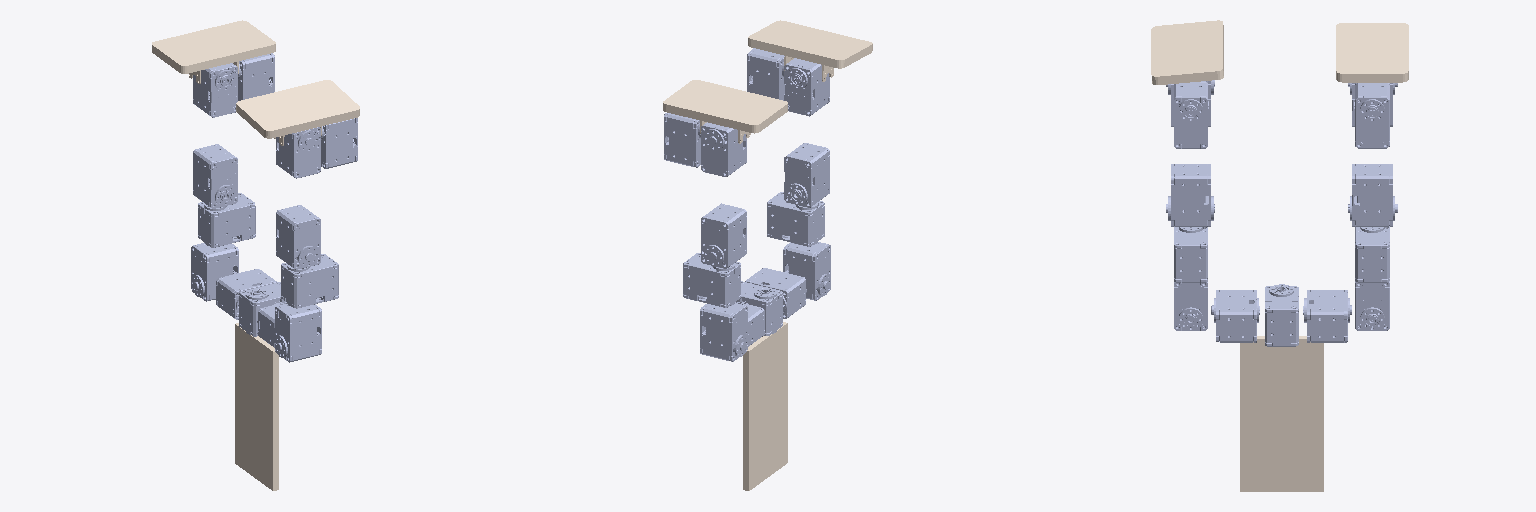
URDF robot description (3):
<?xml version='1.0' encoding='utf-8'?>
<robot name="3">
  <link name="base_link">
    <inertial>
      <origin xyz="0.011672590012564 0.0754963486989652 -0.209170861702287" rpy="0 0 0" />
      <mass value="0.131635938904622" />
      <inertia ixx="1.91553932101858E-05" ixy="4.40820055071525E-09" ixz="-2.55503272044349E-07" iyy="3.09392742802438E-05" iyz="-5.2330608648758E-09" izz="3.19799191111257E-05" />
      </inertial>
    <visual>
      <origin xyz="0 0 0" rpy="0 0 0" />
      <geometry>
        <mesh filename="meshes/base_link.STL" />
        </geometry>
      <material name="">
        <color rgba="0.792156862745098 0.819607843137255 0.933333333333333 1" />
        </material>
      </visual>
    <collision>
      <origin xyz="0 0 0" rpy="0 0 0" />
      <geometry>
        <mesh filename="meshes/base_link.STL" />
        </geometry>
      </collision>
    </link>
  <link name="r_hip_pitch_link">
    <inertial>
      <origin xyz="0.000512585106856932 -0.0377390460968998 -0.0116725900125635" rpy="0 0 0" />
      <mass value="0.0438786463015405" />
      <inertia ixx="9.966209816454E-06" ixy="5.23306086487016E-09" ixz="-2.55503272044309E-07" iyy="1.10068546473359E-05" iyz="4.40820055073216E-09" izz="6.38513107006193E-06" />
      </inertial>
    <visual>
      <origin xyz="0 0 0" rpy="0 0 0" />
      <geometry>
        <mesh filename="meshes/r_hip_pitch_link.STL" />
        </geometry>
      <material name="">
        <color rgba="0.792156862745098 0.819607843137255 0.933333333333333 1" />
        </material>
      </visual>
    <collision>
      <origin xyz="0 0 0" rpy="0 0 0" />
      <geometry>
        <mesh filename="meshes/r_hip_pitch_link.STL" />
        </geometry>
      </collision>
    </link>
  <joint name="r_hip_pitch_joint" type="revolute">
    <origin xyz="0 0.03775 -0.209" rpy="-3.14159265358979 0 -3.14159265358979" />
    <parent link="base_link" />
    <child link="r_hip_pitch_link" />
    <axis xyz="0 1 0" />
    <limit lower="-3.142" upper="3.142" effort="0" velocity="0" />
    </joint>
  <link name="r_hip_roll_link">
    <inertial>
      <origin xyz="-0.0116725900125634 1.09539031014981E-05 -0.0592625851068567" rpy="0 0 0" />
      <mass value="0.0438786463015405" />
      <inertia ixx="6.38513107006192E-06" ixy="4.40820055073266E-09" ixz="2.55503272044307E-07" iyy="1.10068546473358E-05" iyz="-5.23306086487158E-09" izz="9.96620981645398E-06" />
      </inertial>
    <visual>
      <origin xyz="0 0 0" rpy="0 0 0" />
      <geometry>
        <mesh filename="meshes/r_hip_roll_link.STL" />
        </geometry>
      <material name="">
        <color rgba="0.792156862745098 0.819607843137255 0.933333333333333 1" />
        </material>
      </visual>
    <collision>
      <origin xyz="0 0 0" rpy="0 0 0" />
      <geometry>
        <mesh filename="meshes/r_hip_roll_link.STL" />
        </geometry>
      </collision>
    </link>
  <joint name="r_hip_roll_joint" type="revolute">
    <origin xyz="0 -0.03775 0" rpy="0 0 0" />
    <parent link="r_hip_pitch_link" />
    <child link="r_hip_roll_link" />
    <axis xyz="-1 0 0" />
    <limit lower="-3.142" upper="3.142" effort="0" velocity="0" />
    </joint>
  <link name="r_hip_thigh_link">
    <inertial>
      <origin xyz="1.0953903100219E-05 -0.000512585106857445 -0.0464225900125635" rpy="0 0 0" />
      <mass value="0.0438786463015405" />
      <inertia ixx="1.10068546473359E-05" ixy="-5.23306086487113E-09" ixz="4.40820055073159E-09" iyy="9.96620981645401E-06" iyz="2.55503272044309E-07" izz="6.38513107006194E-06" />
      </inertial>
    <visual>
      <origin xyz="0 0 0" rpy="0 0 0" />
      <geometry>
        <mesh filename="meshes/r_hip_thigh_link.STL" />
        </geometry>
      <material name="">
        <color rgba="0.792156862745098 0.819607843137255 0.933333333333333 1" />
        </material>
      </visual>
    <collision>
      <origin xyz="0 0 0" rpy="0 0 0" />
      <geometry>
        <mesh filename="meshes/r_hip_thigh_link.STL" />
        </geometry>
      </collision>
    </link>
  <joint name="r_hip_thigh_joint" type="revolute">
    <origin xyz="0 0 -0.0587499999999997" rpy="0 0 0" />
    <parent link="r_hip_roll_link" />
    <child link="r_hip_thigh_link" />
    <axis xyz="0 0 1" />
    <limit lower="-3.142" upper="3.142" effort="0" velocity="0" />
    </joint>
  <link name="r_hip_calf_link">
    <inertial>
      <origin xyz="-1.09539031002066E-05 -0.000512585106856929 -0.103827409987437" rpy="0 0 0" />
      <mass value="0.0438786463015405" />
      <inertia ixx="1.10068546473359E-05" ixy="5.23306086487085E-09" ixz="4.40820055073296E-09" iyy="9.96620981645399E-06" iyz="-2.55503272044308E-07" izz="6.38513107006194E-06" />
      </inertial>
    <visual>
      <origin xyz="0 0 0" rpy="0 0 0" />
      <geometry>
        <mesh filename="meshes/r_hip_calf_link.STL" />
        </geometry>
      <material name="">
        <color rgba="0.792156862745098 0.819607843137255 0.933333333333333 1" />
        </material>
      </visual>
    <collision>
      <origin xyz="0 0 0" rpy="0 0 0" />
      <geometry>
        <mesh filename="meshes/r_hip_calf_link.STL" />
        </geometry>
      </collision>
    </link>
  <joint name="r_hip_calf_joint" type="revolute">
    <origin xyz="0 0 -0.03475" rpy="0 0 0" />
    <parent link="r_hip_thigh_link" />
    <child link="r_hip_calf_link" />
    <axis xyz="0 1 0" />
    <limit lower="-3.142" upper="3.142" effort="0" velocity="0" />
    </joint>
  <link name="r_ankle_pitch_link">
    <inertial>
      <origin xyz="-0.037237414893143 -1.09539031002194E-05 0.0116725900125634" rpy="0 0 0" />
      <mass value="0.0438786463015405" />
      <inertia ixx="9.96620981645399E-06" ixy="-5.23306086487117E-09" ixz="2.55503272044308E-07" iyy="1.10068546473359E-05" iyz="4.40820055073282E-09" izz="6.38513107006194E-06" />
      </inertial>
    <visual>
      <origin xyz="0 0 0" rpy="0 0 0" />
      <geometry>
        <mesh filename="meshes/r_ankle_pitch_link.STL" />
        </geometry>
      <material name="">
        <color rgba="0.792156862745098 0.819607843137255 0.933333333333333 1" />
        </material>
      </visual>
    <collision>
      <origin xyz="0 0 0" rpy="0 0 0" />
      <geometry>
        <mesh filename="meshes/r_ankle_pitch_link.STL" />
        </geometry>
      </collision>
    </link>
  <joint name="r_ankle _pitch_joint" type="revolute">
    <origin xyz="0 0 -0.1155" rpy="0 0 0" />
    <parent link="r_hip_calf_link" />
    <child link="r_ankle_pitch_link" />
    <axis xyz="0 1 0" />
    <limit lower="-3.142" upper="3.142" effort="0" velocity="0" />
    </joint>
  <link name="r_ankle_roll_link">
    <inertial>
      <origin xyz="0.0395 -0.00262871663161335 -0.0261768335109488" rpy="0 0 0" />
      <mass value="0.168105015619337" />
      <inertia ixx="5.68510292905988E-05" ixy="-1.55352785745136E-20" ixz="5.14376064415107E-21" iyy="0.000155703689867648" iyz="5.20711296536529E-06" izz="0.000207033359916456" />
      </inertial>
    <visual>
      <origin xyz="0 0 0" rpy="0 0 0" />
      <geometry>
        <mesh filename="meshes/r_ankle_roll_link.STL" />
        </geometry>
      <material name="">
        <color rgba="1 0.949019607843137 0.898039215686275 1" />
        </material>
      </visual>
    <collision>
      <origin xyz="0 0 0" rpy="0 0 0" />
      <geometry>
        <mesh filename="meshes/r_ankle_roll_link.STL" />
        </geometry>
      </collision>
    </link>
  <joint name="r_ankle_roll_joint" type="revolute">
    <origin xyz="-0.03775 0 0" rpy="0 0 0" />
    <parent link="r_ankle_pitch_link" />
    <child link="r_ankle_roll_link" />
    <axis xyz="-1 0 0" />
    <limit lower="-3.142" upper="3.142" effort="0" velocity="0" />
    </joint>
  <link name="l_hip_pitch_link">
    <inertial>
      <origin xyz="0.000512585106856032 0.0377609539031015 -0.0116725900125656" rpy="0 0 0" />
      <mass value="0.0438786463015405" />
      <inertia ixx="9.966209816454E-06" ixy="5.2330608648565E-09" ixz="-2.55503272044321E-07" iyy="1.10068546473359E-05" iyz="4.40820055066507E-09" izz="6.38513107006194E-06" />
      </inertial>
    <visual>
      <origin xyz="0 0 0" rpy="0 0 0" />
      <geometry>
        <mesh filename="meshes/l_hip_pitch_link.STL" />
        </geometry>
      <material name="">
        <color rgba="0.792156862745098 0.819607843137255 0.933333333333333 1" />
        </material>
      </visual>
    <collision>
      <origin xyz="0 0 0" rpy="0 0 0" />
      <geometry>
        <mesh filename="meshes/l_hip_pitch_link.STL" />
        </geometry>
      </collision>
    </link>
  <joint name="l_hip_pitch_joint" type="revolute">
    <origin xyz="0 0.11325 -0.209000000000001" rpy="-3.14159265358979 0 -3.14159265358979" />
    <parent link="base_link" />
    <child link="l_hip_pitch_link" />
    <axis xyz="0 -1 0" />
    <limit lower="-3.142" upper="3.142" effort="0" velocity="0" />
    </joint>
  <link name="l_hip_roll_link">
    <inertial>
      <origin xyz="-0.0116725900125597 1.09539030993255E-05 -0.0592625851068558" rpy="0 0 0" />
      <mass value="0.0438786463015405" />
      <inertia ixx="6.38513107006194E-06" ixy="4.40820055079593E-09" ixz="2.55503272044345E-07" iyy="1.10068546473358E-05" iyz="-5.23306086486742E-09" izz="9.96620981645398E-06" />
      </inertial>
    <visual>
      <origin xyz="0 0 0" rpy="0 0 0" />
      <geometry>
        <mesh filename="meshes/l_hip_roll_link.STL" />
        </geometry>
      <material name="">
        <color rgba="0.792156862745098 0.819607843137255 0.933333333333333 1" />
        </material>
      </visual>
    <collision>
      <origin xyz="0 0 0" rpy="0 0 0" />
      <geometry>
        <mesh filename="meshes/l_hip_roll_link.STL" />
        </geometry>
      </collision>
    </link>
  <joint name="l_hip_roll_joint" type="revolute">
    <origin xyz="0 0.0377500000000015 0" rpy="0 0 0" />
    <parent link="l_hip_pitch_link" />
    <child link="l_hip_roll_link" />
    <axis xyz="-1 0 0" />
    <limit lower="-3.142" upper="3.142" effort="0" velocity="0" />
    </joint>
  <link name="l_hip_thigh_link">
    <inertial>
      <origin xyz="-1.09539031000581E-05 0.000512585106856783 -0.0464225900125635" rpy="0 0 0" />
      <mass value="0.0438786463015405" />
      <inertia ixx="1.10068546473358E-05" ixy="-5.23306086487335E-09" ixz="-4.40820055071647E-09" iyy="9.96620981645398E-06" iyz="-2.55503272044307E-07" izz="6.38513107006193E-06" />
      </inertial>
    <visual>
      <origin xyz="0 0 0" rpy="0 0 0" />
      <geometry>
        <mesh filename="meshes/l_hip_thigh_link.STL" />
        </geometry>
      <material name="">
        <color rgba="0.792156862745098 0.819607843137255 0.933333333333333 1" />
        </material>
      </visual>
    <collision>
      <origin xyz="0 0 0" rpy="0 0 0" />
      <geometry>
        <mesh filename="meshes/l_hip_thigh_link.STL" />
        </geometry>
      </collision>
    </link>
  <joint name="l_hip_thigh_joint" type="revolute">
    <origin xyz="0 0 -0.0587499999999989" rpy="0 0 0" />
    <parent link="l_hip_roll_link" />
    <child link="l_hip_thigh_link" />
    <axis xyz="0 0 1" />
    <limit lower="-3.142" upper="3.142" effort="0" velocity="0" />
    </joint>
  <link name="l_hip_calf_link">
    <inertial>
      <origin xyz="1.09539031001142E-05 0.000512585106856728 -0.103827409987437" rpy="0 0 0" />
      <mass value="0.0438786463015405" />
      <inertia ixx="1.10068546473359E-05" ixy="5.23306086486915E-09" ixz="-4.4082005507003E-09" iyy="9.96620981645399E-06" iyz="2.55503272044307E-07" izz="6.38513107006194E-06" />
      </inertial>
    <visual>
      <origin xyz="0 0 0" rpy="0 0 0" />
      <geometry>
        <mesh filename="meshes/l_hip_calf_link.STL" />
        </geometry>
      <material name="">
        <color rgba="0.792156862745098 0.819607843137255 0.933333333333333 1" />
        </material>
      </visual>
    <collision>
      <origin xyz="0 0 0" rpy="0 0 0" />
      <geometry>
        <mesh filename="meshes/l_hip_calf_link.STL" />
        </geometry>
      </collision>
    </link>
  <joint name="l_hip_calf_joint" type="revolute">
    <origin xyz="0 0 -0.03475" rpy="0 0 0" />
    <parent link="l_hip_thigh_link" />
    <child link="l_hip_calf_link" />
    <axis xyz="0 -1 0" />
    <limit lower="-3.142" upper="3.142" effort="0" velocity="0" />
    </joint>
  <link name="l_ankle_pitch_link">
    <inertial>
      <origin xyz="-0.0372374148931425 -1.09539031001027E-05 0.0116725900125634" rpy="0 0 0" />
      <mass value="0.0438786463015405" />
      <inertia ixx="9.96620981645399E-06" ixy="-5.23306086486585E-09" ixz="2.55503272044308E-07" iyy="1.10068546473359E-05" iyz="4.40820055073203E-09" izz="6.38513107006193E-06" />
      </inertial>
    <visual>
      <origin xyz="0 0 0" rpy="0 0 0" />
      <geometry>
        <mesh filename="meshes/l_ankle_pitch_link.STL" />
        </geometry>
      <material name="">
        <color rgba="0.792156862745098 0.819607843137255 0.933333333333333 1" />
        </material>
      </visual>
    <collision>
      <origin xyz="0 0 0" rpy="0 0 0" />
      <geometry>
        <mesh filename="meshes/l_ankle_pitch_link.STL" />
        </geometry>
      </collision>
    </link>
  <joint name="l_ankle_pitch_joint" type="revolute">
    <origin xyz="0 0 -0.1155" rpy="0 0 0" />
    <parent link="l_hip_calf_link" />
    <child link="l_ankle_pitch_link" />
    <axis xyz="0 -1 0" />
    <limit lower="-3.142" upper="3.142" effort="0" velocity="0" />
    </joint>
  <link name="l_ankle_roll_link">
    <inertial>
      <origin xyz="0.0394999999999984 1.11022302462516E-16 -0.0263084922370927" rpy="0 0 0" />
      <mass value="0.168105015619337" />
      <inertia ixx="5.68510292905987E-05" ixy="-1.05069363266892E-18" ixz="-1.05613353193441E-21" iyy="0.000155180783823683" iyz="-8.74678906986671E-21" izz="0.000207556265960421" />
      </inertial>
    <visual>
      <origin xyz="0 0 0" rpy="0 0 0" />
      <geometry>
        <mesh filename="meshes/l_ankle_roll_link.STL" />
        </geometry>
      <material name="">
        <color rgba="1 0.949019607843137 0.898039215686275 1" />
        </material>
      </visual>
    <collision>
      <origin xyz="0 0 0" rpy="0 0 0" />
      <geometry>
        <mesh filename="meshes/l_ankle_roll_link.STL" />
        </geometry>
      </collision>
    </link>
  <joint name="l_ankle_roll_joint" type="revolute">
    <origin xyz="-0.0377499999999995 0 0" rpy="0 0 0" />
    <parent link="l_ankle_pitch_link" />
    <child link="l_ankle_roll_link" />
    <axis xyz="-1 0 0" />
    <limit lower="-3.142" upper="3.142" effort="0" velocity="0" />
    </joint>
  <link name="waist_yaw_link">
    <inertial>
      <origin xyz="-2.25280917660021E-16 -1.38777878078145E-17 0.0949999999999975" rpy="0 0 0" />
      <mass value="0.232848" />
      <inertia ixx="0.000475398000000001" ixy="3.22593347119457E-19" ixz="-1.77996540349635E-21" iyy="0.000381016944000001" iyz="-3.25493631865524E-21" izz="9.57781440000002E-05" />
      </inertial>
    <visual>
      <origin xyz="0 0 0" rpy="0 0 0" />
      <geometry>
        <mesh filename="meshes/waist_yaw_link.STL" />
        </geometry>
      <material name="">
        <color rgba="1 0.949019607843137 0.898039215686275 1" />
        </material>
      </visual>
    <collision>
      <origin xyz="0 0 0" rpy="0 0 0" />
      <geometry>
        <mesh filename="meshes/waist_yaw_link.STL" />
        </geometry>
      </collision>
    </link>
  <joint name="waist_yaw_joint" type="revolute">
    <origin xyz="0 0.0754999999999976 -0.209000000000003" rpy="-3.14159265358978 0 -3.14159265358979" />
    <parent link="base_link" />
    <child link="waist_yaw_link" />
    <axis xyz="0 0 -1" />
    <limit lower="-3.142" upper="3.142" effort="0" velocity="0" />
    </joint>
  </robot>

--- What the picture shows (computed from the rendered views, not written in the file) ---
The picture shows the robot from 3 angles, left to right: view 1: azimuth 30°, elevation 25°; view 2: azimuth 150°, elevation 25°; view 3: azimuth 270°, elevation 25°; orthographic projection.
Robot: 3 — 14 links, 13 joints (13 revolute); root link base_link; default pose: all joints at 0.
Links seen in each view (by area): view 1: waist_yaw_link, r_ankle_roll_link, l_ankle_roll_link, base_link, r_hip_thigh_link, l_hip_thigh_link, r_hip_pitch_link, r_hip_roll_link, l_hip_roll_link, l_hip_pitch_link, l_hip_calf_link, r_hip_calf_link (+2 smaller); view 2: waist_yaw_link, l_ankle_roll_link, r_ankle_roll_link, base_link, l_hip_thigh_link, r_hip_thigh_link, l_hip_pitch_link, l_hip_roll_link, r_hip_roll_link, r_hip_calf_link, r_hip_pitch_link, l_hip_calf_link (+2 smaller); view 3: waist_yaw_link, base_link, l_ankle_roll_link, r_ankle_roll_link, l_hip_thigh_link, r_hip_thigh_link, l_ankle_pitch_link, r_ankle_pitch_link, l_hip_roll_link, r_hip_roll_link, l_hip_pitch_link, r_hip_pitch_link.
Link boxes in pixels (left/top/right/bottom): waist_yaw_link: left=235, top=323, right=278, bottom=490; r_ankle_roll_link: left=236, top=80, right=359, bottom=145; l_ankle_roll_link: left=152, top=20, right=275, bottom=83; base_link: left=216, top=269, right=286, bottom=347; r_hip_thigh_link: left=276, top=205, right=320, bottom=269; l_hip_thigh_link: left=193, top=144, right=237, bottom=208; r_hip_pitch_link: left=275, top=304, right=321, bottom=362; r_hip_roll_link: left=281, top=254, right=338, bottom=308; l_hip_roll_link: left=198, top=193, right=255, bottom=247; l_hip_pitch_link: left=191, top=243, right=238, bottom=301; l_hip_calf_link: left=193, top=63, right=237, bottom=117; r_hip_calf_link: left=276, top=127, right=320, bottom=178; waist_yaw_link: left=743, top=322, right=787, bottom=490; l_ankle_roll_link: left=663, top=80, right=787, bottom=143; r_ankle_roll_link: left=748, top=20, right=872, bottom=81; base_link: left=735, top=268, right=806, bottom=346; l_hip_thigh_link: left=701, top=203, right=746, bottom=268; r_hip_thigh_link: left=784, top=143, right=829, bottom=207; l_hip_pitch_link: left=700, top=303, right=747, bottom=361; l_hip_roll_link: left=683, top=253, right=740, bottom=307; r_hip_roll_link: left=767, top=192, right=824, bottom=246; r_hip_calf_link: left=784, top=58, right=829, bottom=116; r_hip_pitch_link: left=783, top=242, right=830, bottom=300; l_hip_calf_link: left=701, top=122, right=746, bottom=176; waist_yaw_link: left=1240, top=336, right=1323, bottom=491; base_link: left=1211, top=284, right=1351, bottom=346; l_ankle_roll_link: left=1336, top=23, right=1408, bottom=82; r_ankle_roll_link: left=1151, top=20, right=1223, bottom=84; l_hip_thigh_link: left=1348, top=164, right=1397, bottom=226; r_hip_thigh_link: left=1166, top=164, right=1214, bottom=226; l_ankle_pitch_link: left=1355, top=83, right=1389, bottom=148; r_ankle_pitch_link: left=1174, top=81, right=1207, bottom=148; l_hip_roll_link: left=1355, top=226, right=1389, bottom=282; r_hip_roll_link: left=1174, top=227, right=1207, bottom=282; l_hip_pitch_link: left=1355, top=281, right=1389, bottom=330; r_hip_pitch_link: left=1174, top=282, right=1207, bottom=330.
Bounding box of the posed robot: 0.1095 × 0.2139 × 0.4073 m (x, y, z).
Meshes: 14 distinct files referenced, 14 mesh visuals loaded (14 binary STL).